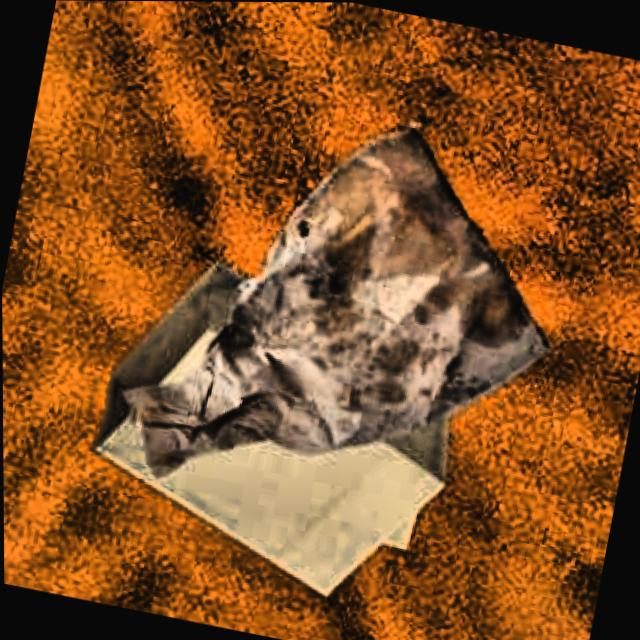Paper-bag: (102, 75, 586, 547), (40, 237, 492, 640)
